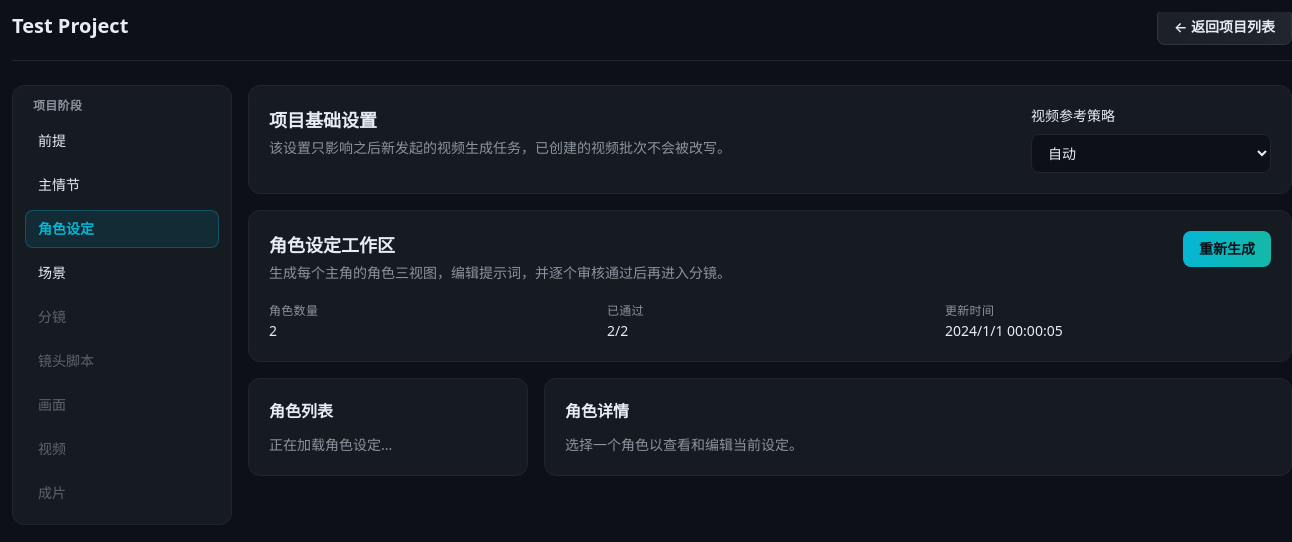
Scenario: Project Detail Page › enables the scene panel after character sheets are approved and keeps storyboard disabled
Expected: the button "分镜" is disabled, left=25, top=298, right=219, bottom=336
Click the button "场景" at (122, 273), box left=25, top=254, right=219, bottom=292
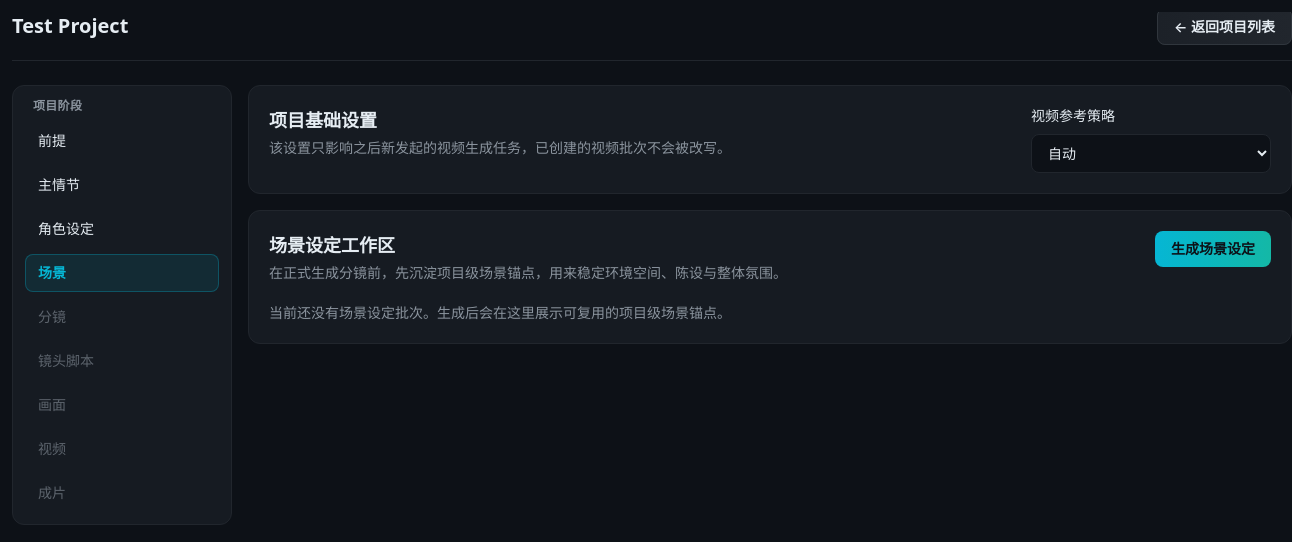
Expected: the heading "场景设定工作区" is shown, left=269, top=233, right=395, bottom=257
